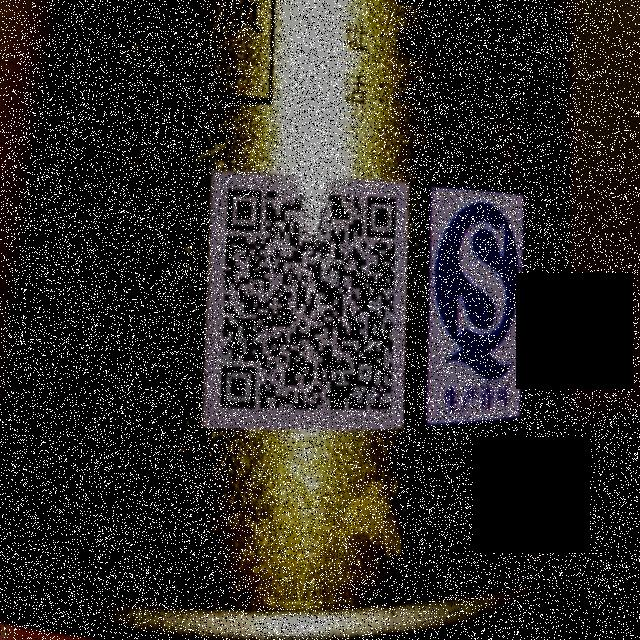QR_CODE: (210, 166, 404, 422)
